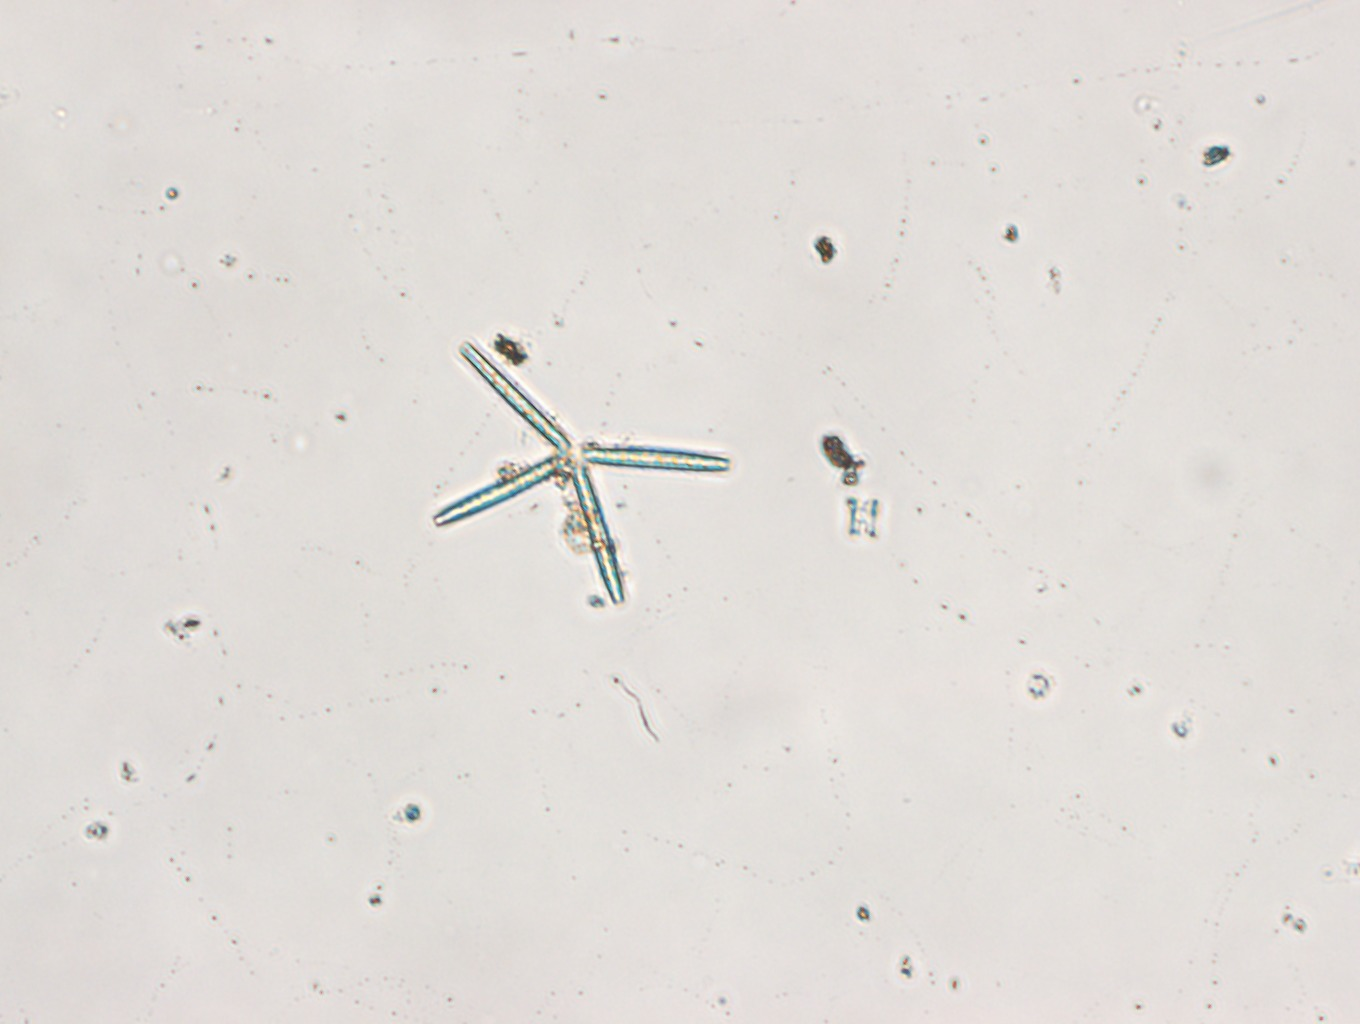thalassionema nitzschioides: (431, 341, 731, 607)
